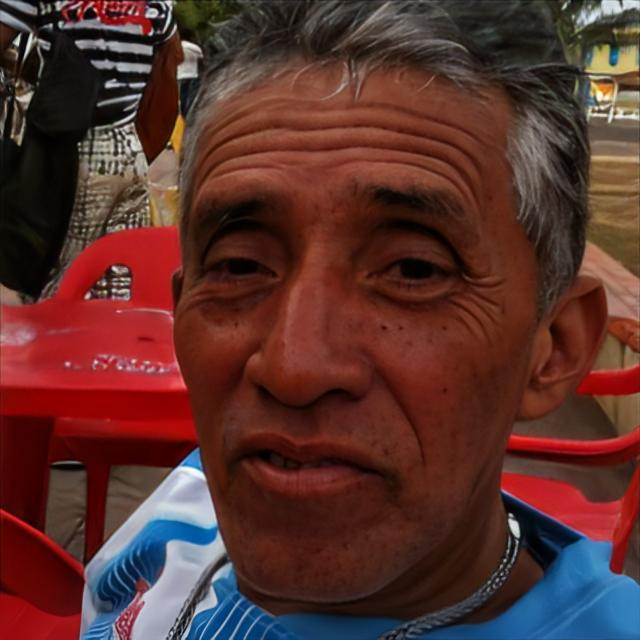disgust: (170, 26, 538, 606)
